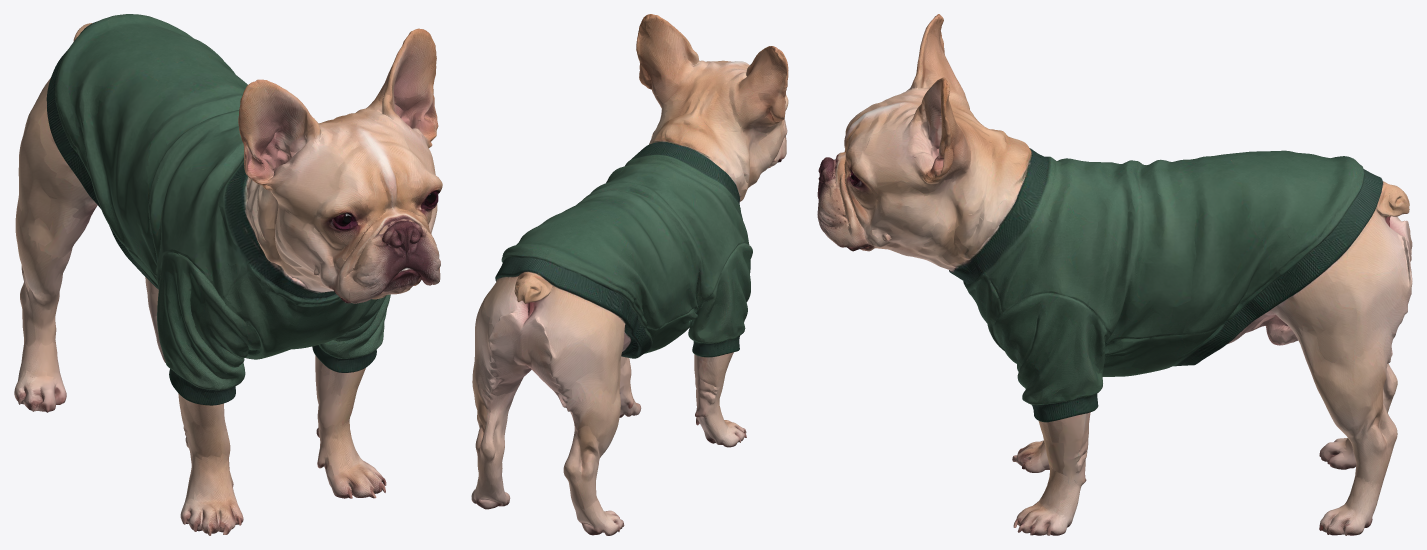
Rendered from zhuangzhuang-standing-green-fleece.glb.
The picture shows the model from 3 angles, left to right: view 1: azimuth 30°, elevation 25°; view 2: azimuth 150°, elevation 25°; view 3: azimuth 270°, elevation 25°; orthographic projection. The views are drawn at different scales.
Visible parts, largest first — view 1: Mesh_0; view 2: Mesh_0; view 3: Mesh_0.
Boxes of the visible parts, box(x1,y1,x2,y2) form: Mesh_0: box(14, 14, 442, 535); Mesh_0: box(471, 14, 788, 535); Mesh_0: box(817, 14, 1412, 535).
Size of the model in its own units: 0.1796 by 0.4 by 0.4797.
Materials: 1 (1 with a texture image).
